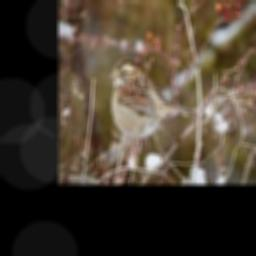Sparrow: (107, 58, 197, 150)
